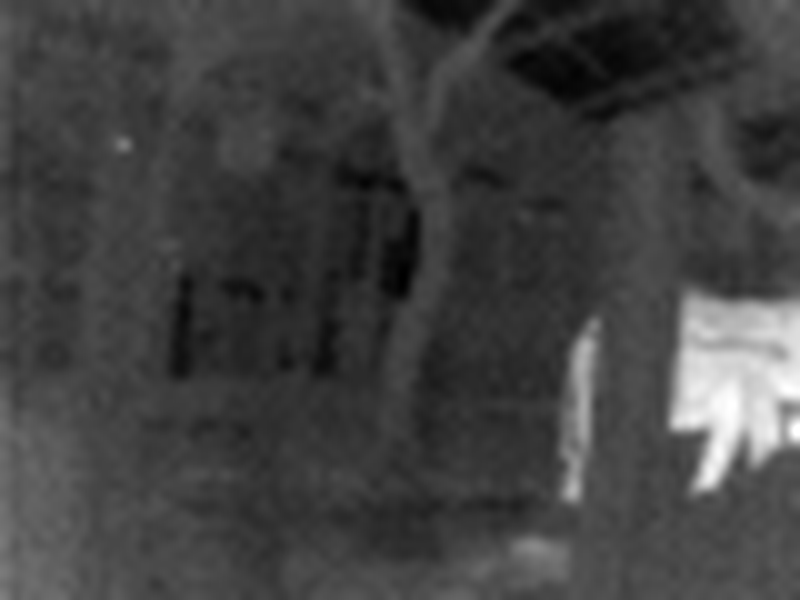elephant: (534, 286, 800, 509)
